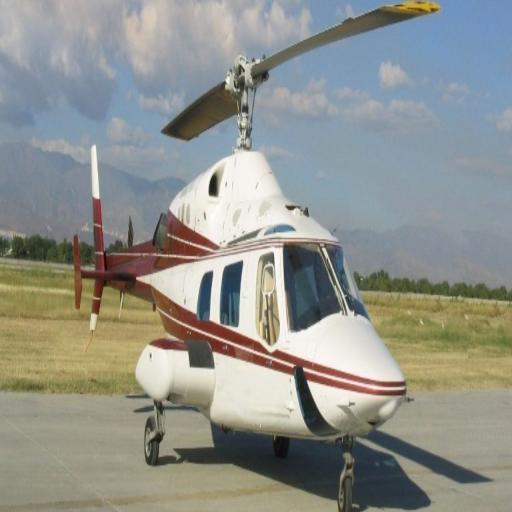helicopter: (60, 2, 451, 509)
